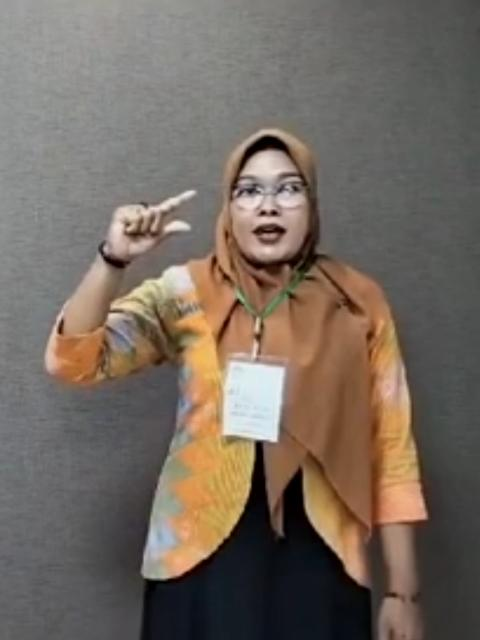G: (104, 188, 196, 252)
